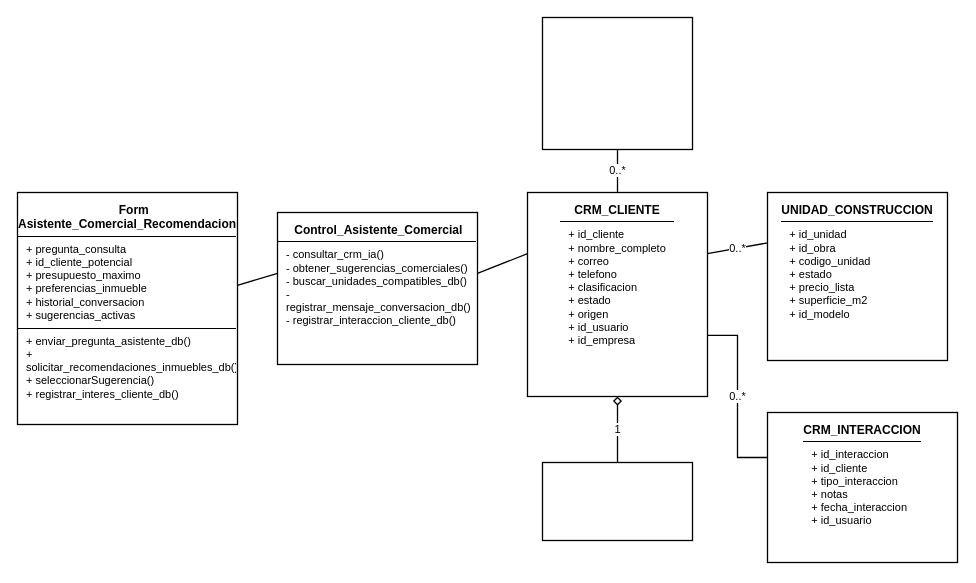
Some shapes in this 976 by 583 pixel diagram are drawn without their labels. The shapes that lost their labels are listed below. From the top down, each one's centre as x and y in pixels, then its label:
At point 617,83: "MODELO_UNIDAD + id_modelo + nombre_modelo + dormitorios + banos + descripcion".
At point 617,501: "Empresa + id_empresa + nombre_empresa".
